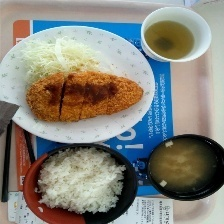dal: (143, 17, 197, 61)
